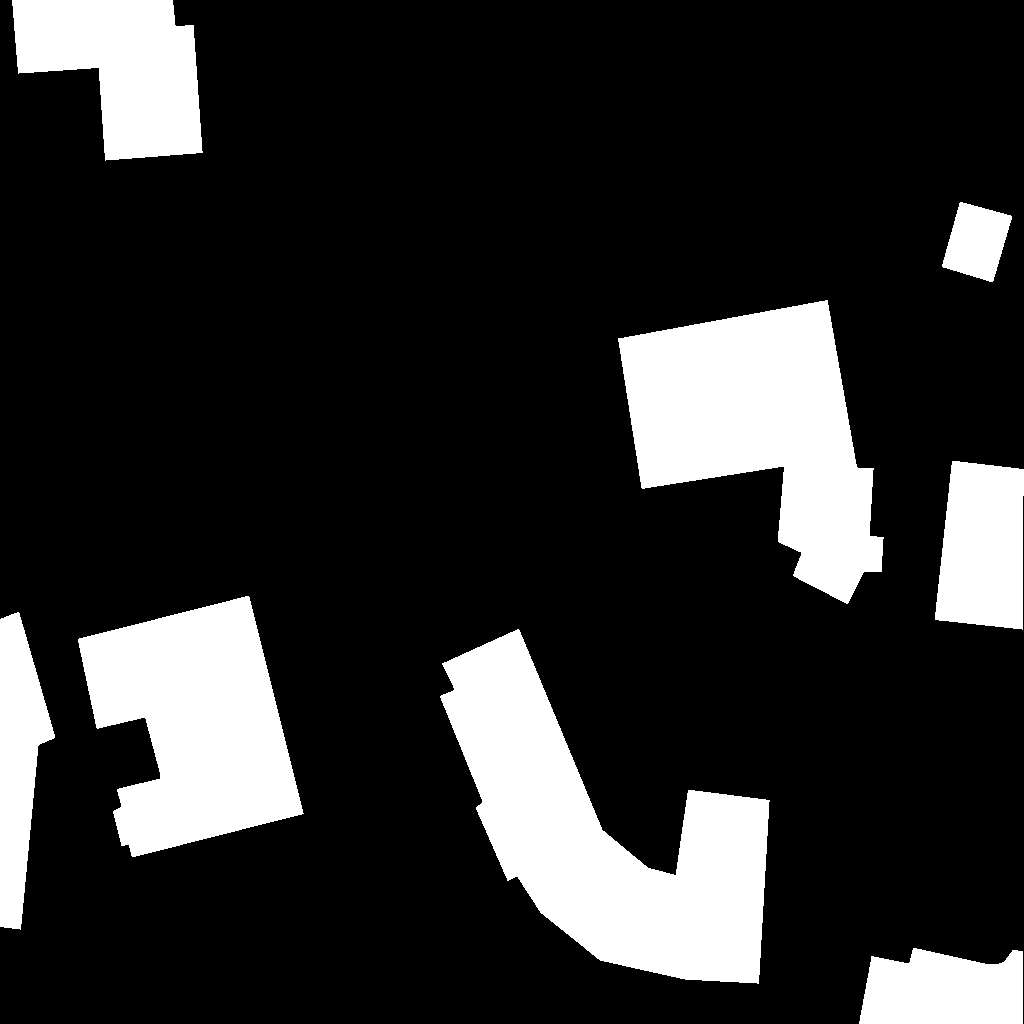building: (440, 629, 770, 984), (618, 300, 884, 605), (78, 596, 304, 858), (12, 0, 203, 161), (0, 612, 56, 930), (935, 461, 1024, 630), (859, 948, 1024, 1024), (942, 202, 1013, 283)
